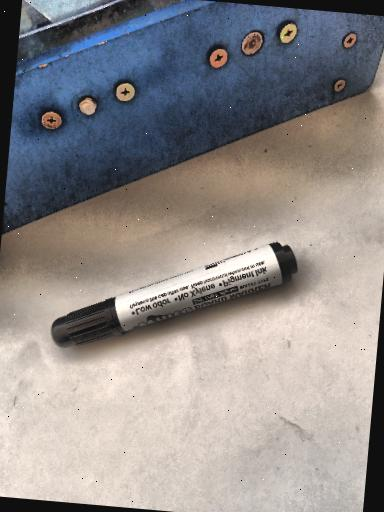marcador negro: (51, 242, 297, 347)
